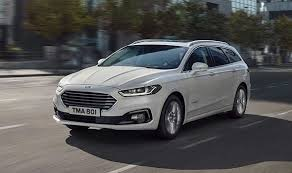car: (51, 39, 250, 139)
